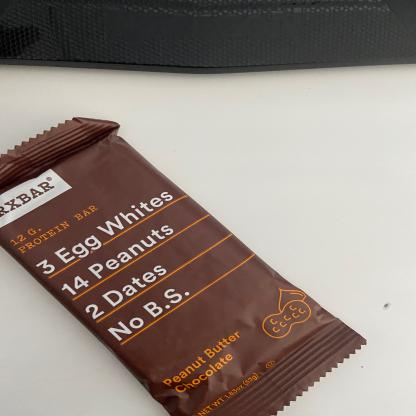ProteinBars: (1, 167, 370, 403)
